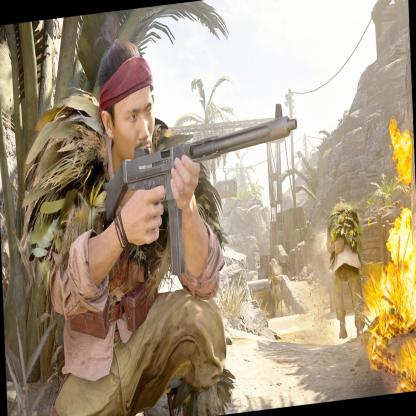rifle: (92, 102, 306, 225)
